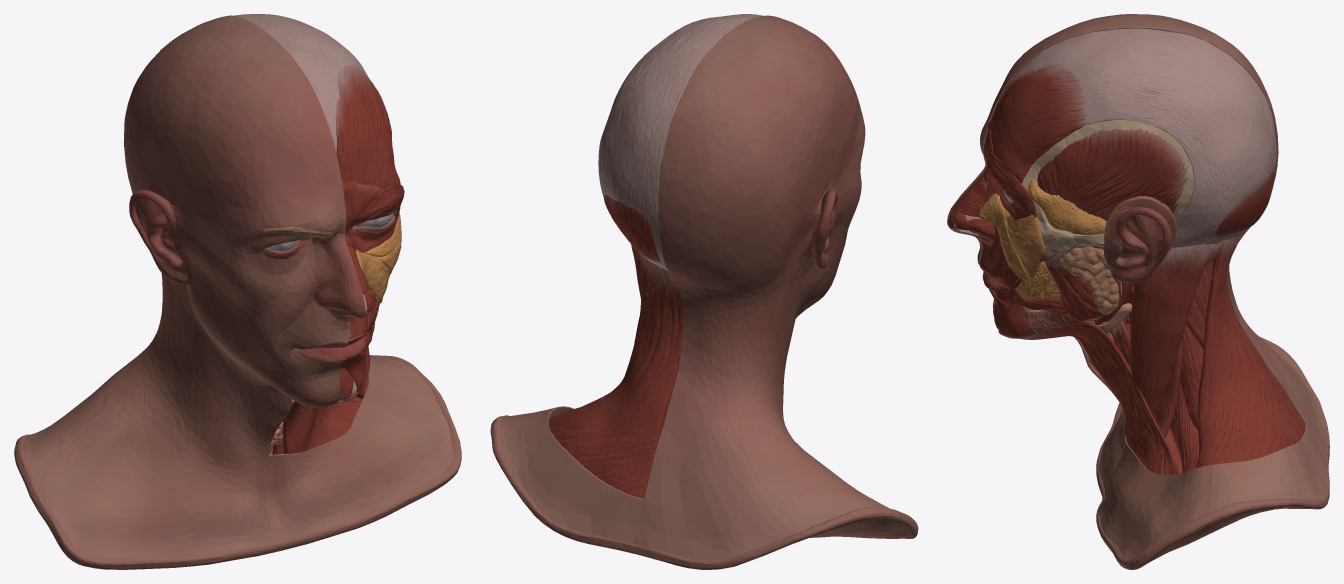
The model's file is David_Bowie_Face_Anatomy.glb.
3 views of the same model, side by side, from view 1: azimuth 30°, elevation 25°; view 2: azimuth 150°, elevation 25°; view 3: azimuth 270°, elevation 25° (orthographic). The views are drawn at different scales.
Visible parts, largest first — view 1: David_Bowie_Face_Anatomy; view 2: David_Bowie_Face_Anatomy; view 3: David_Bowie_Face_Anatomy.
Boxes of the visible parts, x1=… form: David_Bowie_Face_Anatomy: x1=14, y1=14, x2=461, y2=569; David_Bowie_Face_Anatomy: x1=490, y1=14, x2=918, y2=569; David_Bowie_Face_Anatomy: x1=947, y1=14, x2=1329, y2=569.
Size of the model in its own units: 3.52 by 4.18 by 3.03.
